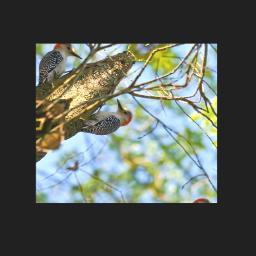Woodpecker: (66, 90, 144, 157)
